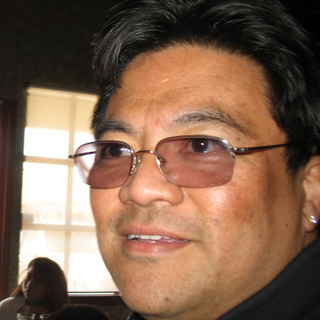eye: (176, 132, 227, 156), (96, 139, 132, 166)
